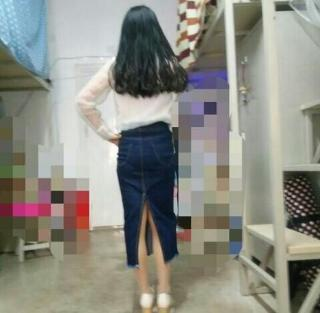long sleeve top: (74, 53, 179, 140)
skirt: (116, 122, 180, 270)
